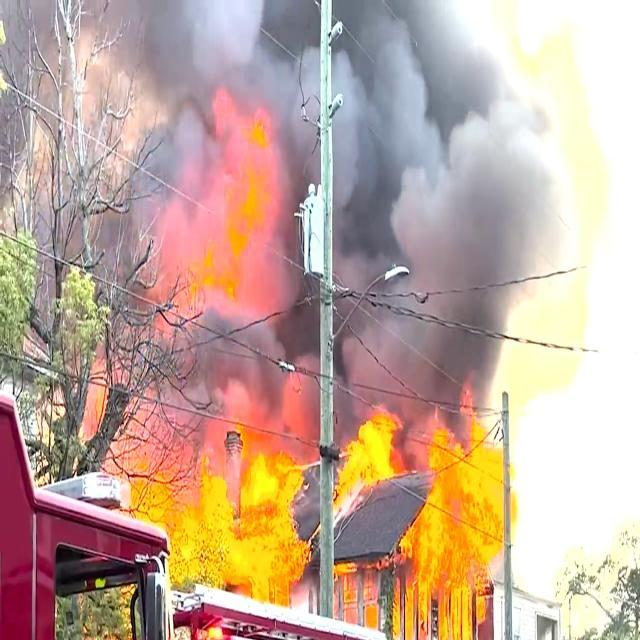Fire: (402, 419, 514, 636), (167, 437, 297, 605), (333, 402, 389, 482)
Smoke: (132, 8, 572, 373)
